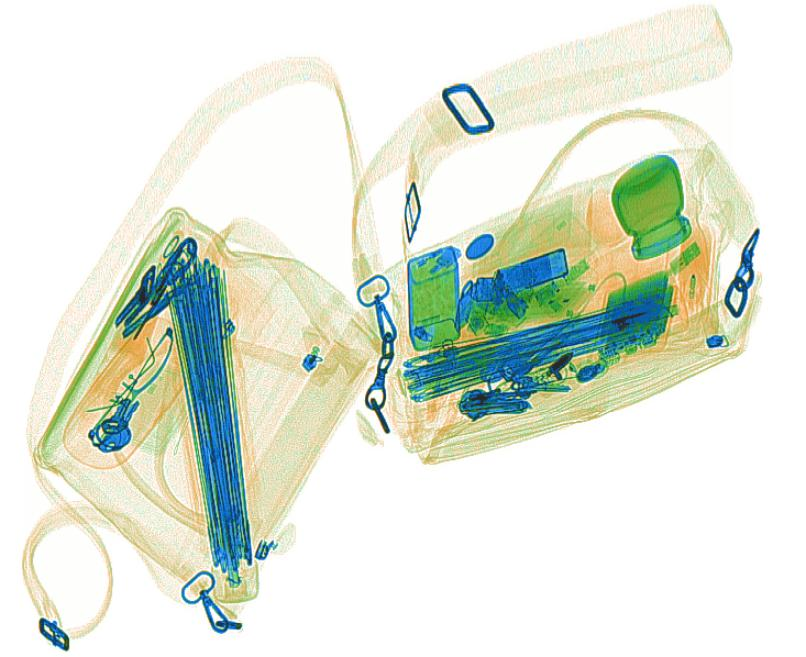USBFlashDisk: (532, 253, 594, 311)
plasticBottleWithaNozzle: (675, 226, 711, 319)
